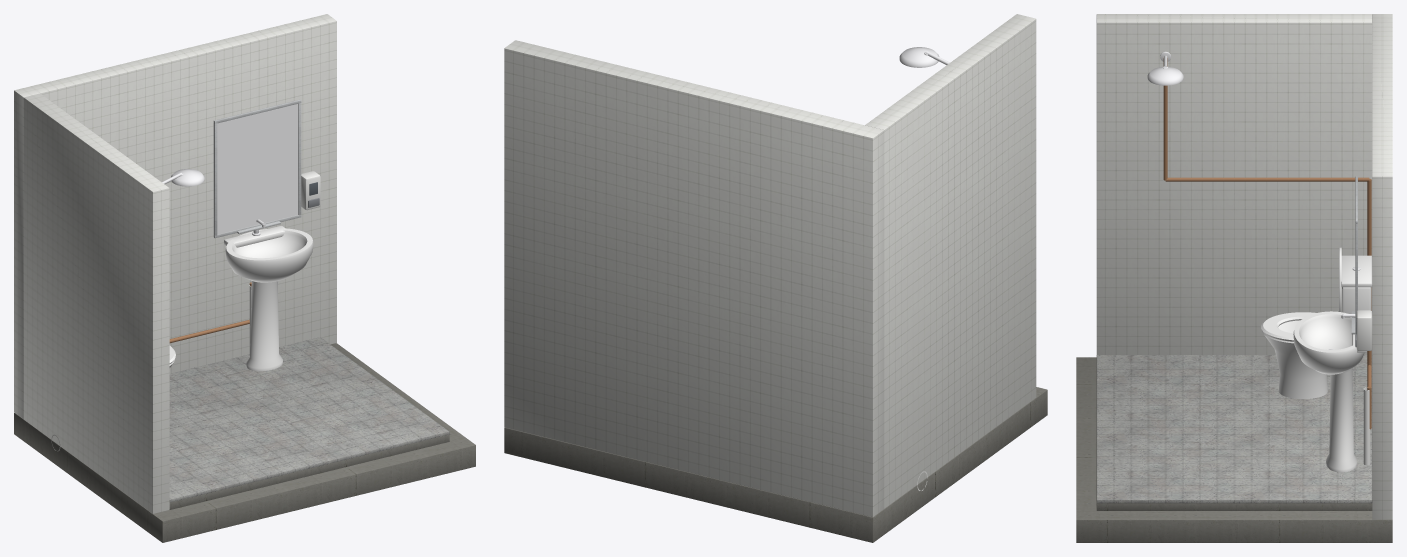
The model's file is KIT-HID-01.glb.
3 renders of one model, left to right at view 1: azimuth 30°, elevation 25°; view 2: azimuth 150°, elevation 25°; view 3: azimuth 270°, elevation 25°, orthographic. The views are drawn at different scales.
Parts seen in each view (by area): view 1: KIT-HID-01_parede_lado, KIT-HID-01_parede_fundo, KIT-HID-01_piso, KIT-HID-01_laje, KIT-HID-01_p4, KIT-HID-01_p2, KIT-HID-01_contrapiso, KIT-HID-01_p5; view 2: KIT-HID-01_parede_fundo, KIT-HID-01_parede_lado, KIT-HID-01_laje, KIT-HID-01_p3; view 3: KIT-HID-01_parede_lado, KIT-HID-01_piso, KIT-HID-01_laje, KIT-HID-01_parede_fundo, KIT-HID-01_p2, KIT-HID-01_p1, KIT-HID-01_contrapiso, KIT-HID-01_af_lado, KIT-HID-01_p5, KIT-HID-01_p3, KIT-HID-01_esg40_sobe, KIT-HID-01_p4 (+2 smaller).
Part boxes in pixels (left/top/right/bottom): KIT-HID-01_parede_lado: left=23, top=93, right=169, bottom=513; KIT-HID-01_parede_fundo: left=14, top=14, right=336, bottom=418; KIT-HID-01_piso: left=169, top=337, right=449, bottom=502; KIT-HID-01_laje: left=14, top=343, right=475, bottom=542; KIT-HID-01_p4: left=213, top=99, right=301, bottom=238; KIT-HID-01_p2: left=224, top=219, right=313, bottom=371; KIT-HID-01_contrapiso: left=169, top=434, right=449, bottom=509; KIT-HID-01_p5: left=301, top=171, right=320, bottom=210; KIT-HID-01_parede_fundo: left=504, top=40, right=884, bottom=517; KIT-HID-01_parede_lado: left=865, top=14, right=1036, bottom=508; KIT-HID-01_laje: left=504, top=387, right=1047, bottom=542; KIT-HID-01_p3: left=899, top=47, right=949, bottom=67; KIT-HID-01_parede_lado: left=1096, top=14, right=1372, bottom=354; KIT-HID-01_piso: left=1096, top=355, right=1372, bottom=503; KIT-HID-01_laje: left=1076, top=357, right=1392, bottom=542; KIT-HID-01_parede_fundo: left=1372, top=14, right=1392, bottom=519; KIT-HID-01_p2: left=1293, top=311, right=1366, bottom=472; KIT-HID-01_p1: left=1261, top=247, right=1372, bottom=398; KIT-HID-01_contrapiso: left=1096, top=503, right=1372, bottom=510; KIT-HID-01_af_lado: left=1165, top=177, right=1369, bottom=181; KIT-HID-01_p5: left=1355, top=310, right=1372, bottom=350; KIT-HID-01_p3: left=1147, top=51, right=1183, bottom=85; KIT-HID-01_esg40_sobe: left=1363, top=387, right=1370, bottom=465; KIT-HID-01_p4: left=1351, top=176, right=1372, bottom=334.
Size of the model in its own units: 2.24 by 2.35 by 1.84.
Materials: 13 (4 with a texture image).
